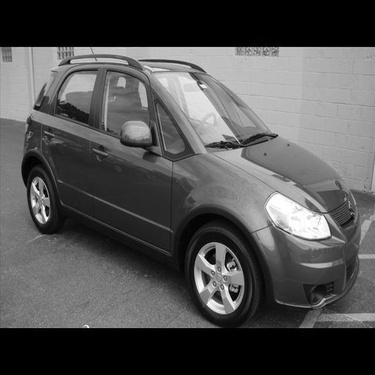car: (14, 46, 367, 330)
